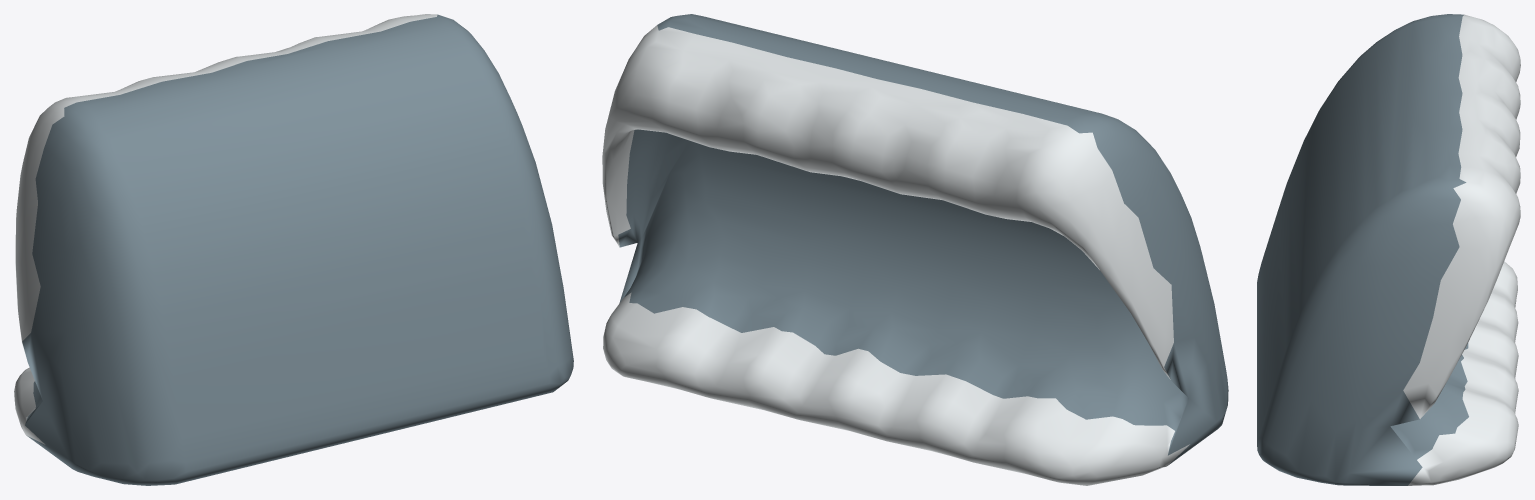
The model's file is BE_PowerMesh_FxTidalWave.fbx.
3 renders of one model, left to right at view 1: azimuth 30°, elevation 25°; view 2: azimuth 150°, elevation 25°; view 3: azimuth 270°, elevation 25°, orthographic. The views are drawn at different scales.
Parts seen in each view (by area): view 1: BE_PowerMesh_FxTidalWave; view 2: BE_PowerMesh_FxTidalWave; view 3: BE_PowerMesh_FxTidalWave.
Boxes of the visible parts, x1,y1,x2,y2 form: BE_PowerMesh_FxTidalWave: (14, 14, 573, 485); BE_PowerMesh_FxTidalWave: (602, 14, 1228, 485); BE_PowerMesh_FxTidalWave: (1257, 14, 1520, 485).
Size of the model in its own units: 1200 by 700 by 600.
Materials: 1 (1 with a texture image).
